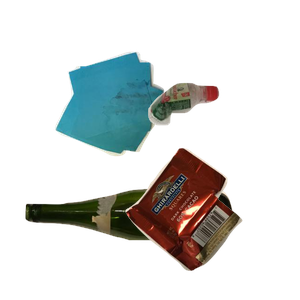glass: (23, 186, 249, 300)
paper: (52, 49, 209, 198)
plastic: (146, 80, 300, 198)
trash: (123, 145, 300, 300)
